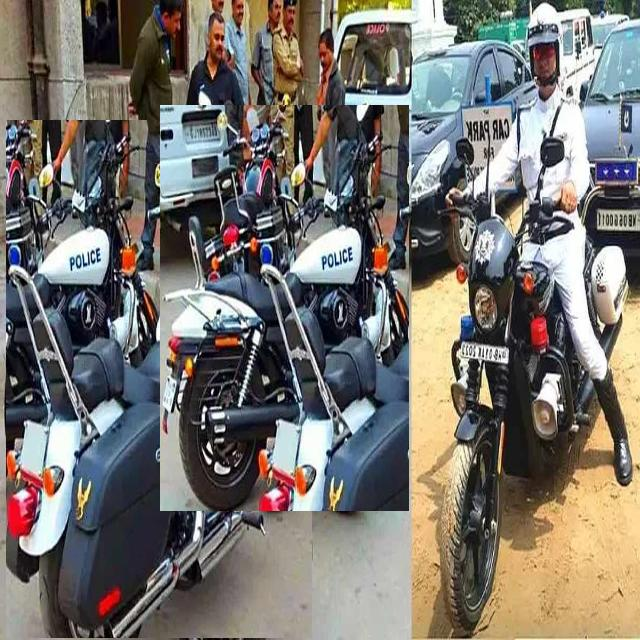car: (410, 41, 534, 263)
motorcycle: (6, 120, 311, 638), (439, 5, 632, 633), (160, 106, 409, 511)
